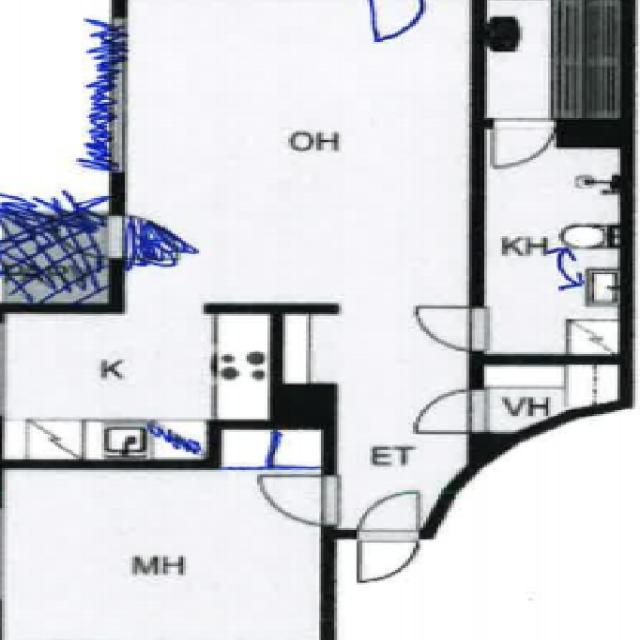door: (251, 477, 335, 526), (406, 387, 487, 434), (492, 119, 556, 172), (358, 488, 421, 540), (358, 530, 421, 582), (411, 308, 487, 351), (368, 0, 426, 37)
